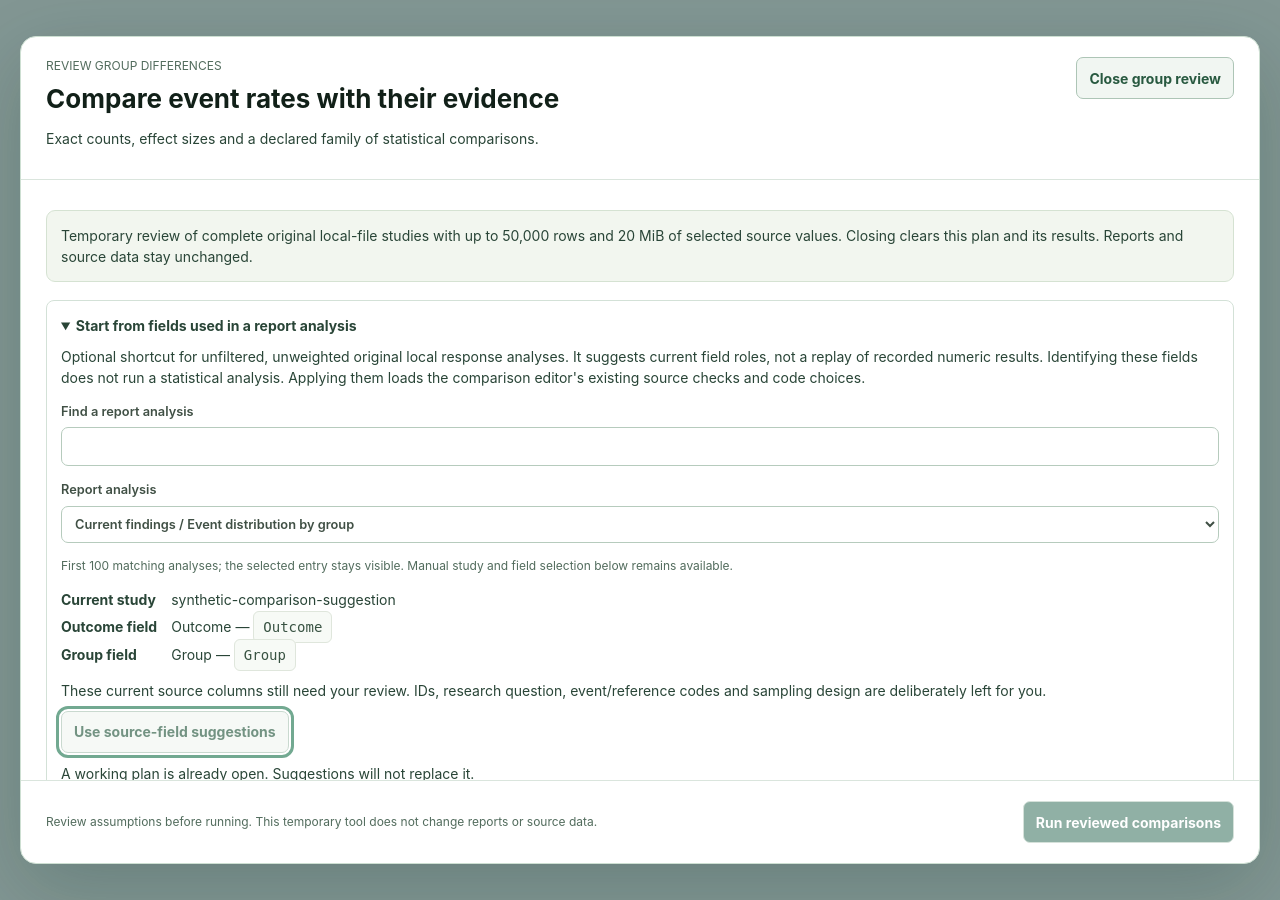
Scenario: retains existing Research question edits instead of replacing the working plan
Earlier steps of the test are not shown.
Click the button "Use source-field suggestions": (175, 732) [61,711,289,753]
(page scrolled)
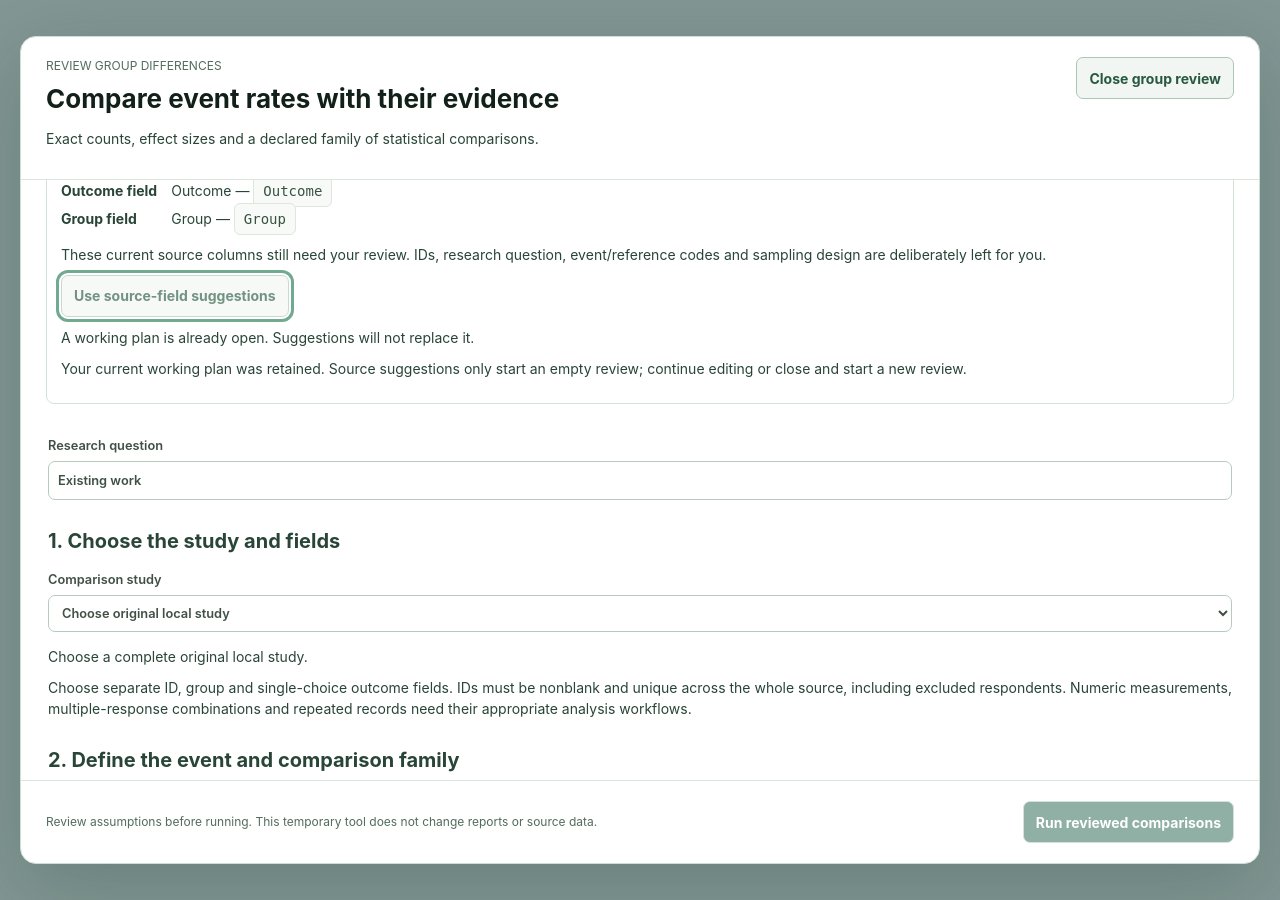
Now the dropdown labelled "Comparison study" shows "Choose original local study", box [48,595,1232,632]
Now the text "current working plan was retained" is shown, box [61,360,967,377]
